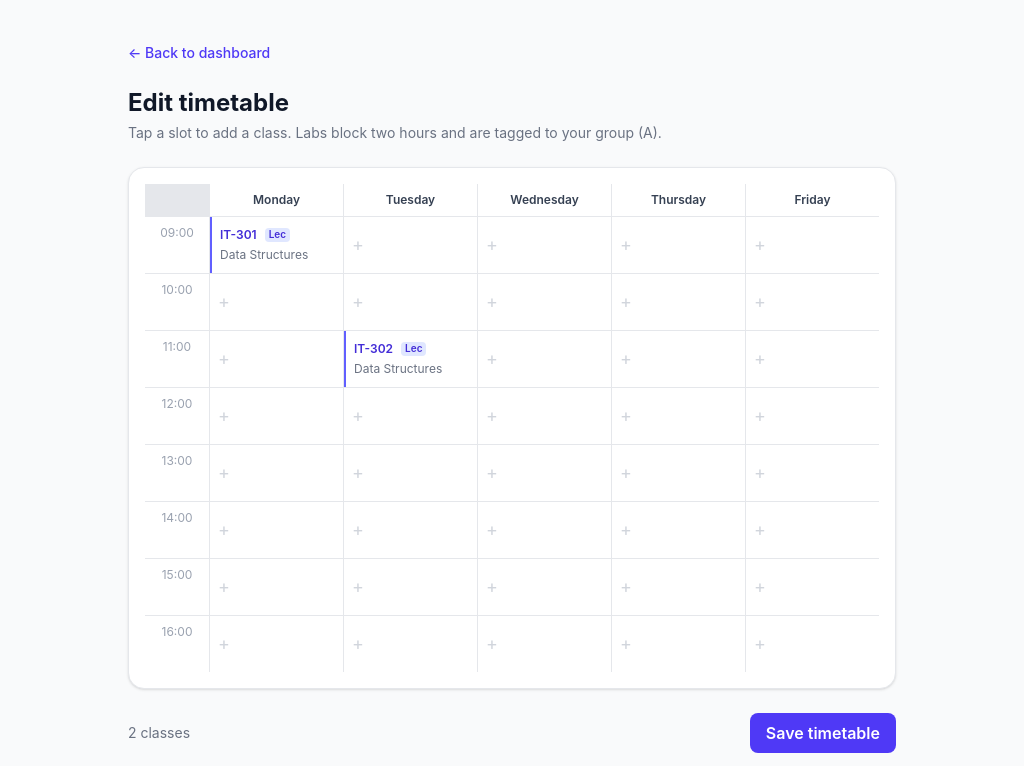
Test case: EditTimetableScreen › editing only touches the timetable subcollection, never attendance
Click the button with aria-label "Edit Monday 09:00" at point(276, 245), box x1=210 y1=217 x2=343 y2=273
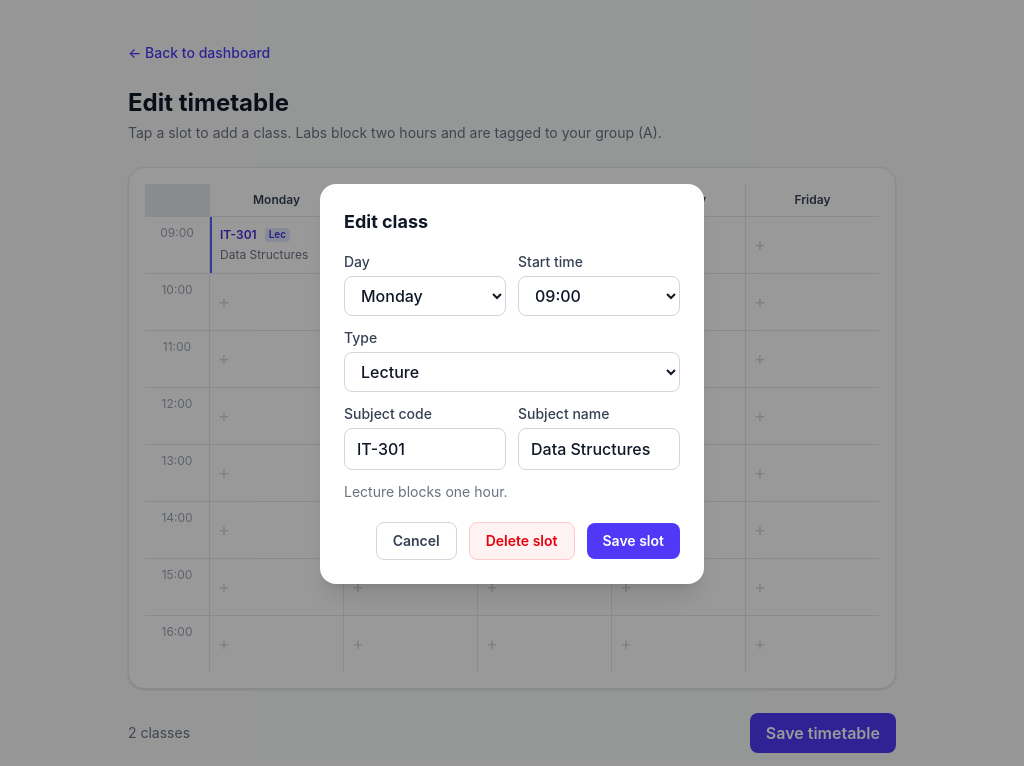
Replace the text in the field labelled "Subject code" with "IT-311" at point(425, 449), box x1=344 y1=428 x2=506 y2=470
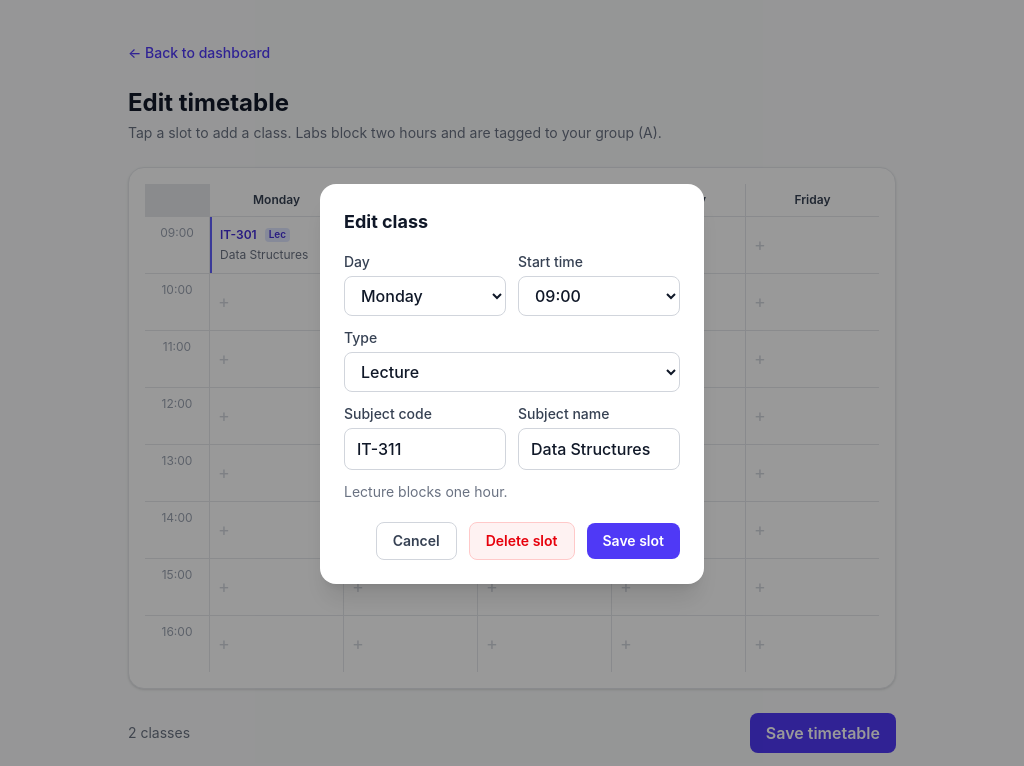
Click the button "Save slot" at point(633, 541), box x1=586 y1=523 x2=680 y2=559
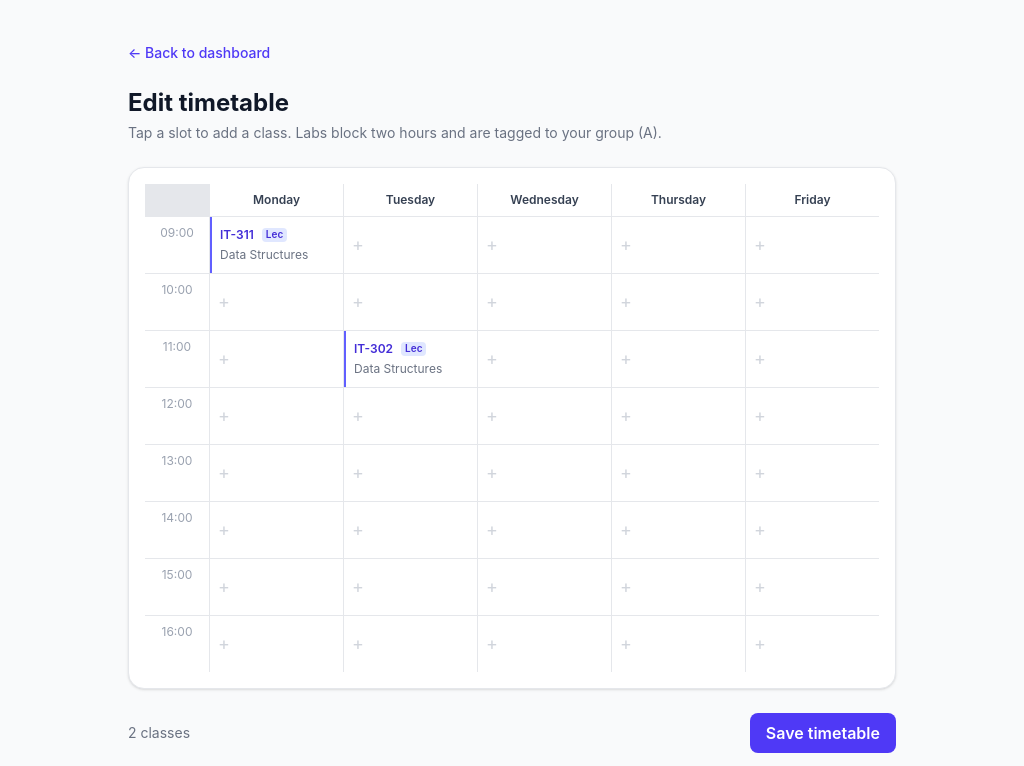
Click the button with aria-label "Edit Tuesday 11:00" at point(410, 359), box x1=344 y1=331 x2=477 y2=387
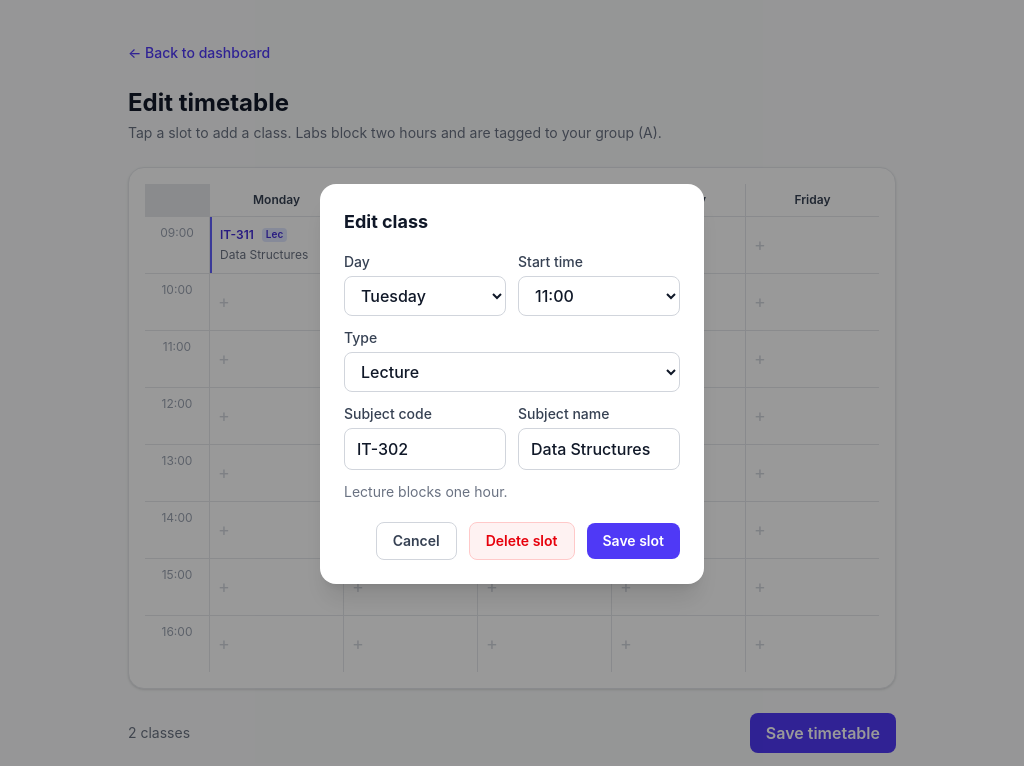
Click the button "Delete slot" at point(522, 541), box x1=469 y1=522 x2=574 y2=560
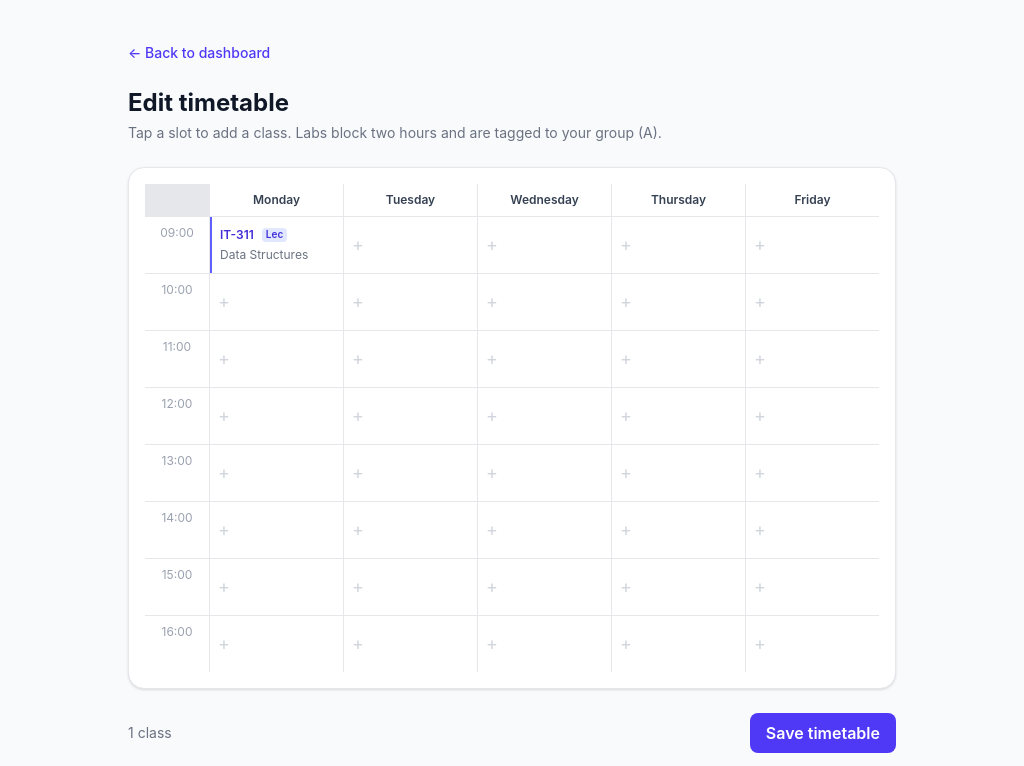
Click the button "Save timetable" at point(823, 733), box x1=750 y1=713 x2=896 y2=753
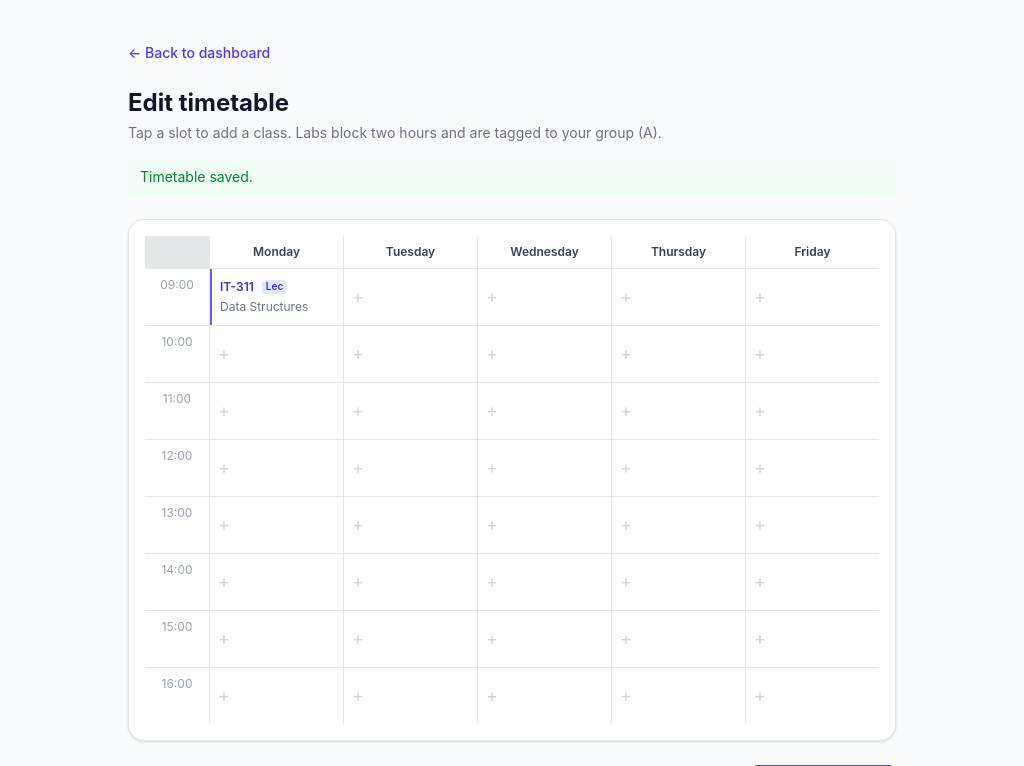
expect the text "IT-311" is shown: met, box x1=220 y1=279 x2=254 y2=295
expect the text "Timetable saved." is shown: met, box x1=128 y1=159 x2=896 y2=195
